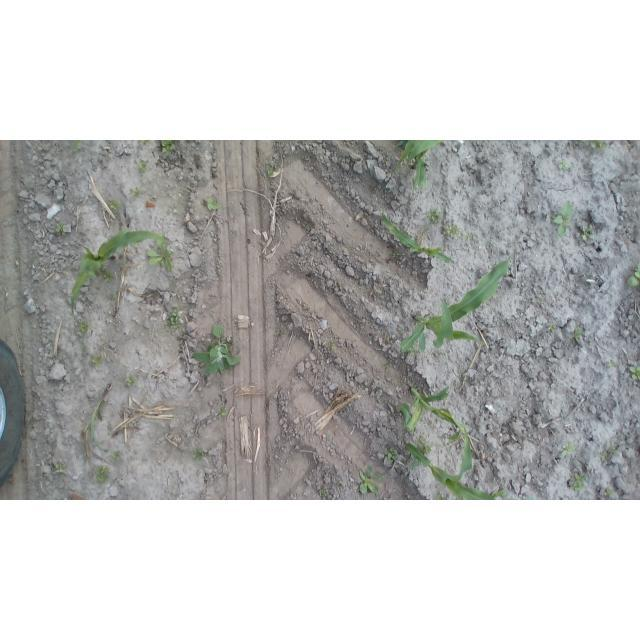Maize: (397, 253, 514, 358), (68, 231, 175, 326), (407, 420, 508, 500), (395, 382, 463, 447), (379, 212, 453, 265), (81, 379, 113, 462), (396, 141, 443, 192), (69, 140, 83, 154)
Weeds: (190, 326, 243, 382), (146, 240, 174, 272), (356, 465, 382, 496), (551, 201, 572, 236), (415, 436, 438, 457), (91, 465, 113, 486), (565, 472, 586, 493), (166, 305, 183, 330), (441, 220, 460, 240), (627, 262, 640, 287), (561, 442, 580, 457), (569, 327, 585, 344), (581, 140, 608, 150), (582, 223, 595, 243), (427, 206, 441, 224), (384, 447, 399, 462), (192, 447, 207, 462), (206, 199, 221, 213), (54, 459, 68, 474), (265, 162, 278, 178), (629, 362, 640, 380), (160, 141, 175, 154), (55, 221, 68, 235), (78, 320, 89, 336), (557, 159, 571, 170), (493, 489, 508, 499), (130, 186, 142, 198), (124, 376, 137, 387), (217, 404, 227, 418), (103, 271, 114, 283), (318, 486, 328, 499), (389, 251, 400, 262), (92, 355, 102, 367), (110, 448, 120, 460), (137, 161, 147, 172), (608, 440, 616, 453), (109, 200, 120, 209), (464, 233, 474, 242), (547, 323, 557, 332), (605, 486, 614, 496), (435, 492, 445, 500), (608, 358, 616, 367), (409, 347, 415, 357), (599, 450, 607, 457), (108, 293, 115, 301), (537, 297, 544, 304), (422, 227, 428, 235), (141, 140, 149, 144), (385, 364, 389, 372), (330, 343, 335, 349)
